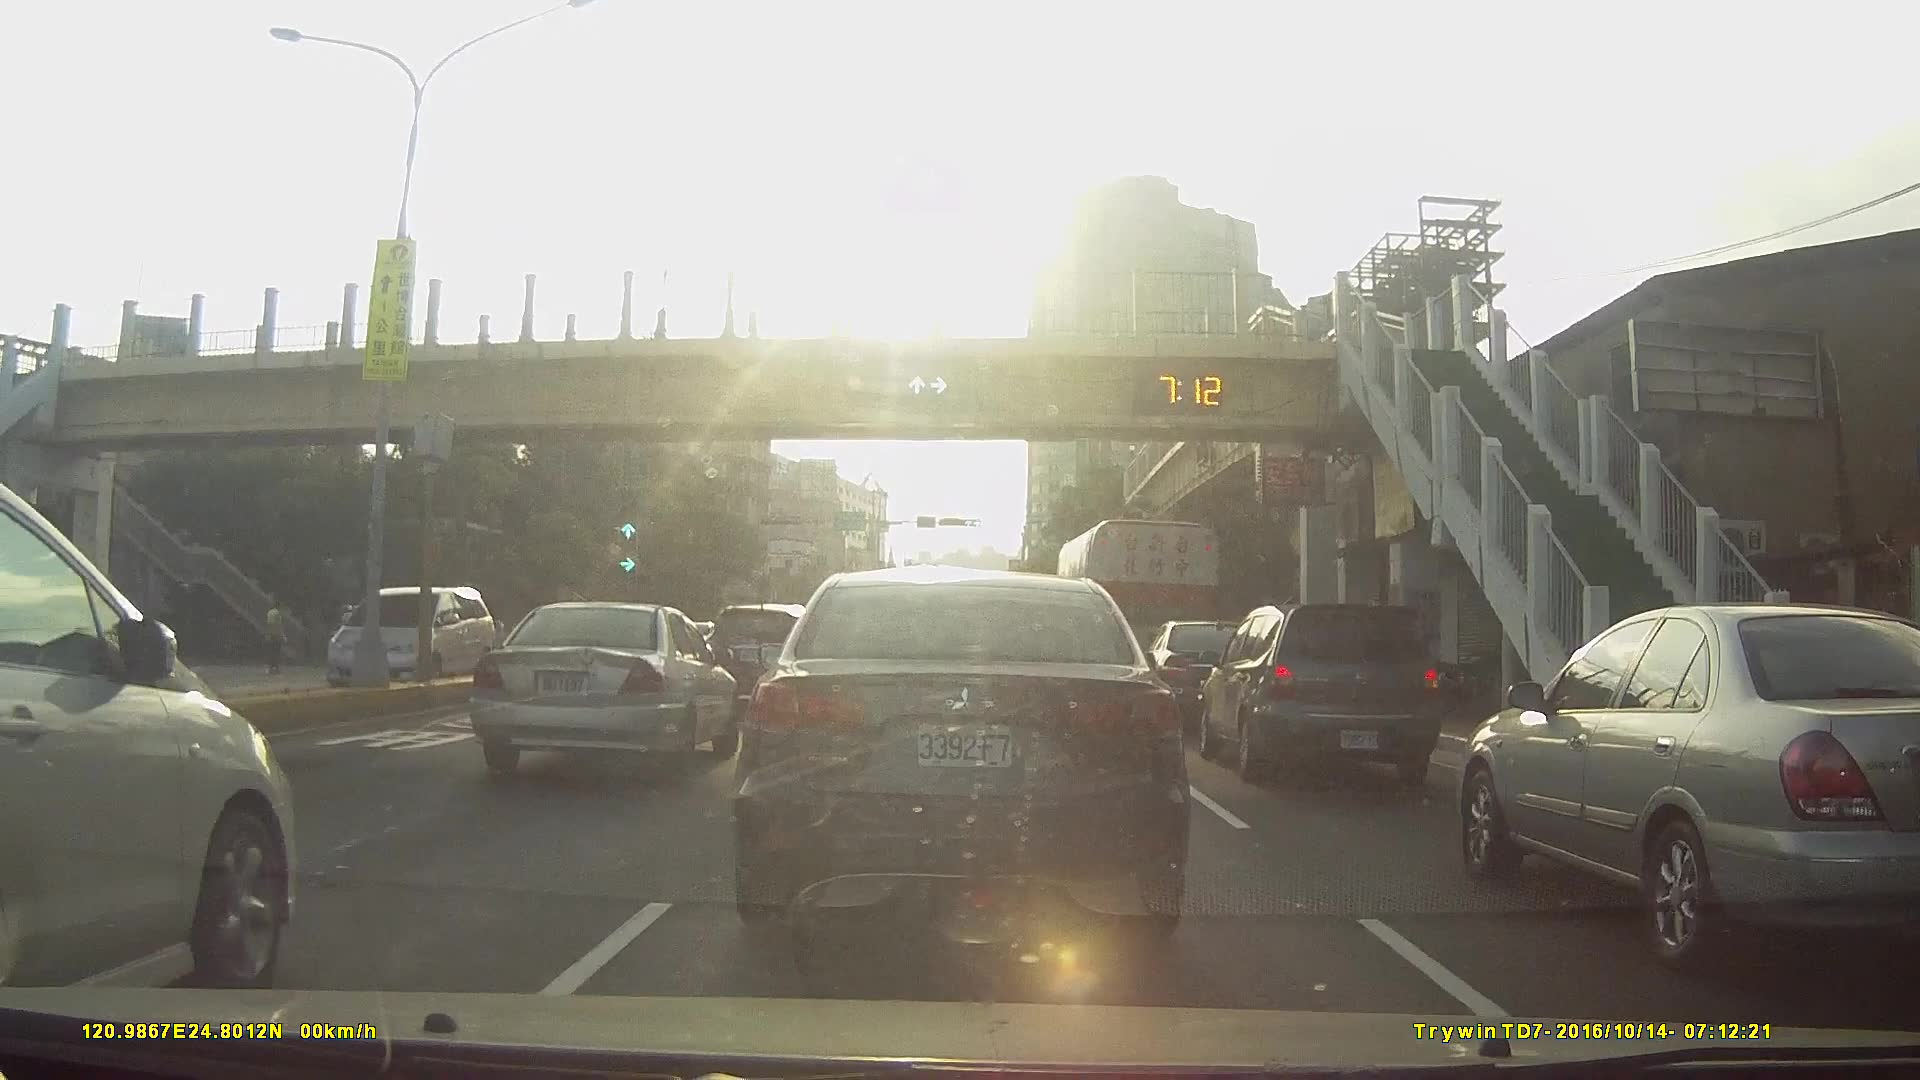vehicle: (0, 458, 316, 1021), (1462, 603, 1920, 980), (733, 562, 1189, 935), (475, 601, 746, 771), (1200, 601, 1445, 786), (309, 582, 502, 696), (1145, 618, 1276, 728), (708, 600, 818, 705)
